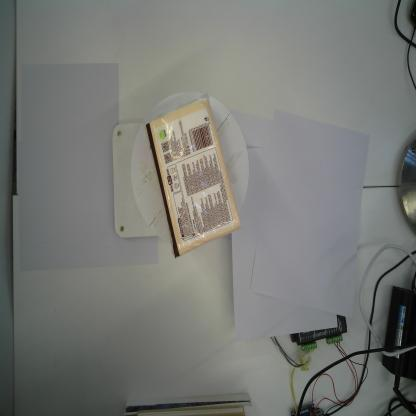Tissue: (144, 92, 242, 262)
